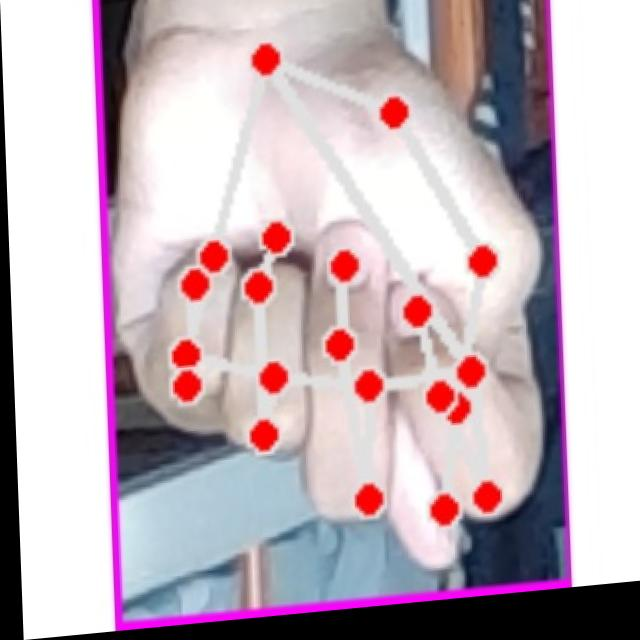T: (112, 0, 554, 613)
